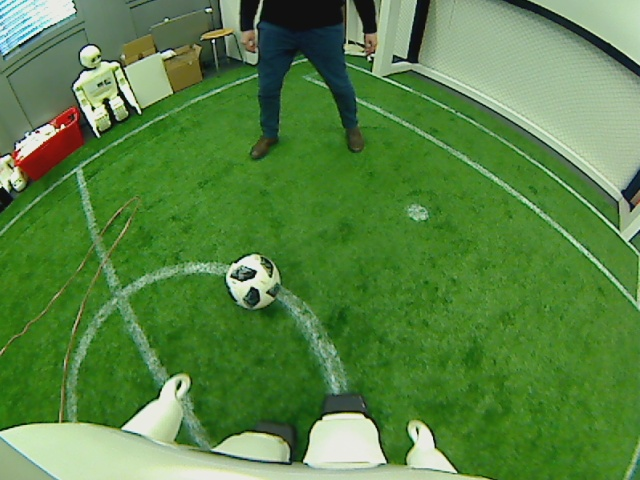ball: (224, 252, 283, 310)
